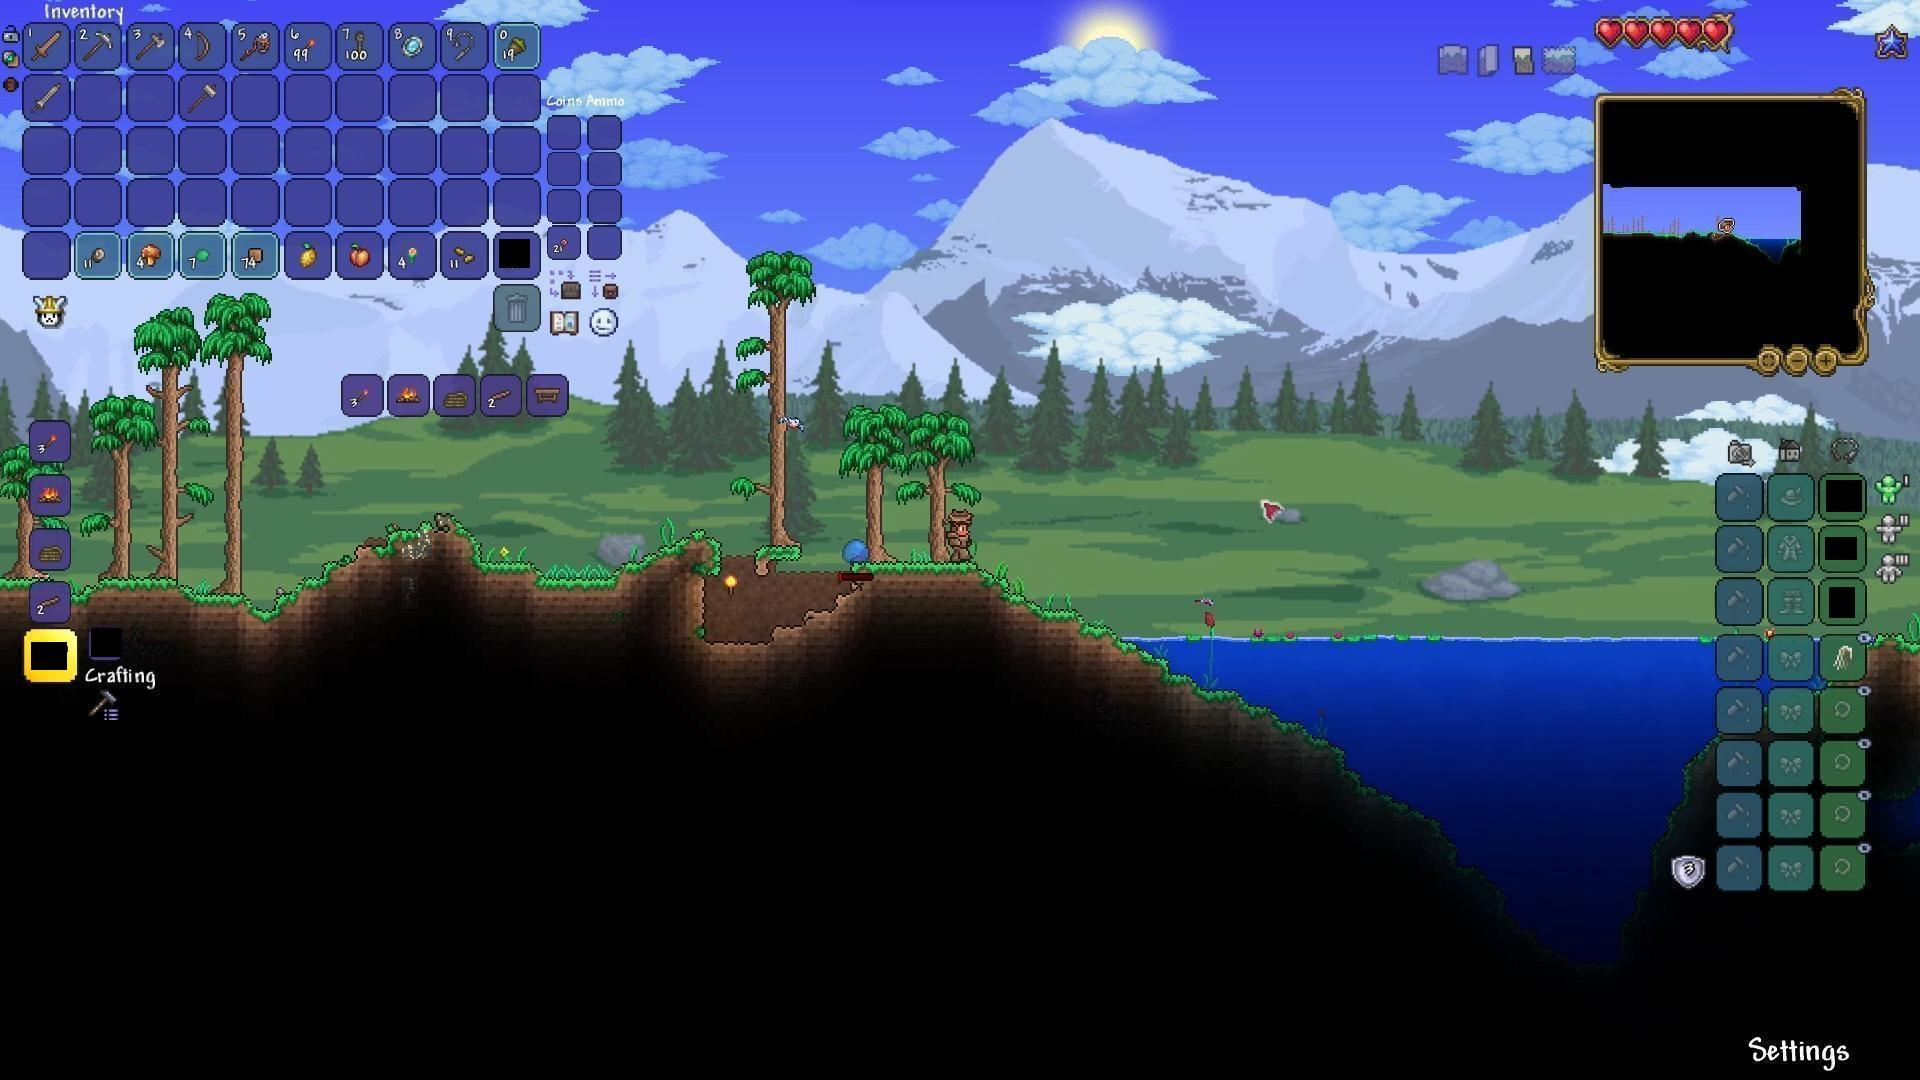slime: (839, 535, 873, 568)
